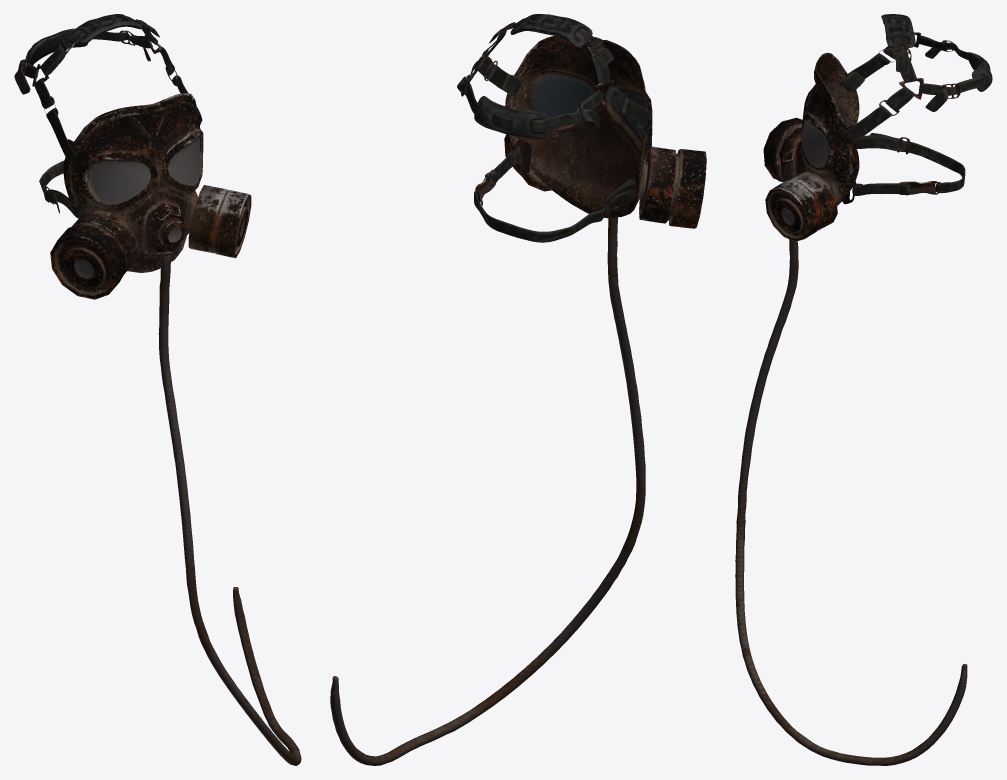
The model's file is gas_mask.fbx.
3 renders of one model, left to right at view 1: azimuth 30°, elevation 25°; view 2: azimuth 150°, elevation 25°; view 3: azimuth 270°, elevation 25°, orthographic. The views are drawn at different scales.
Parts seen in each view (by area): view 1: node_e79a0005_8fac_49f5_b15f_7d94eb0f7fac_mesh0, node_ecad0552_2fed_480c_888b_e920dcec0a6c_mesh0; view 2: node_e79a0005_8fac_49f5_b15f_7d94eb0f7fac_mesh0, node_ecad0552_2fed_480c_888b_e920dcec0a6c_mesh0; view 3: node_e79a0005_8fac_49f5_b15f_7d94eb0f7fac_mesh0, node_ecad0552_2fed_480c_888b_e920dcec0a6c_mesh0.
Part boxes in pixels (bbox=[...]): node_e79a0005_8fac_49f5_b15f_7d94eb0f7fac_mesh0: bbox=[50, 93, 301, 765]; node_ecad0552_2fed_480c_888b_e920dcec0a6c_mesh0: bbox=[14, 14, 202, 217]; node_e79a0005_8fac_49f5_b15f_7d94eb0f7fac_mesh0: bbox=[330, 36, 706, 765]; node_ecad0552_2fed_480c_888b_e920dcec0a6c_mesh0: bbox=[457, 14, 650, 242]; node_e79a0005_8fac_49f5_b15f_7d94eb0f7fac_mesh0: bbox=[735, 52, 967, 765]; node_ecad0552_2fed_480c_888b_e920dcec0a6c_mesh0: bbox=[839, 14, 992, 204].
Bounding box in the file's own units: 35.48 × 92.68 × 32.07.
2 materials, 2 textured.
